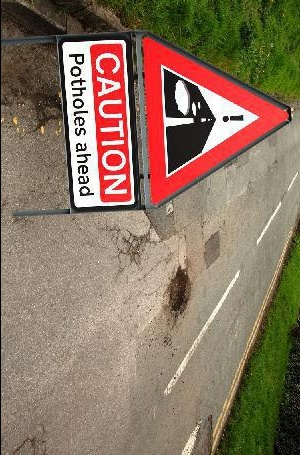pothole: (163, 265, 193, 323)
